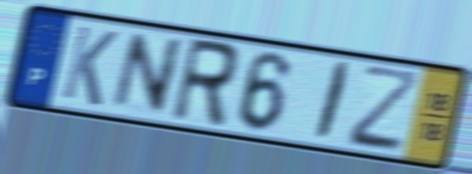6: (236, 49, 295, 137)
I: (311, 58, 355, 145)
K: (58, 22, 121, 110)
N: (108, 31, 188, 118)
R: (167, 35, 242, 132)
Z: (346, 63, 423, 156)
